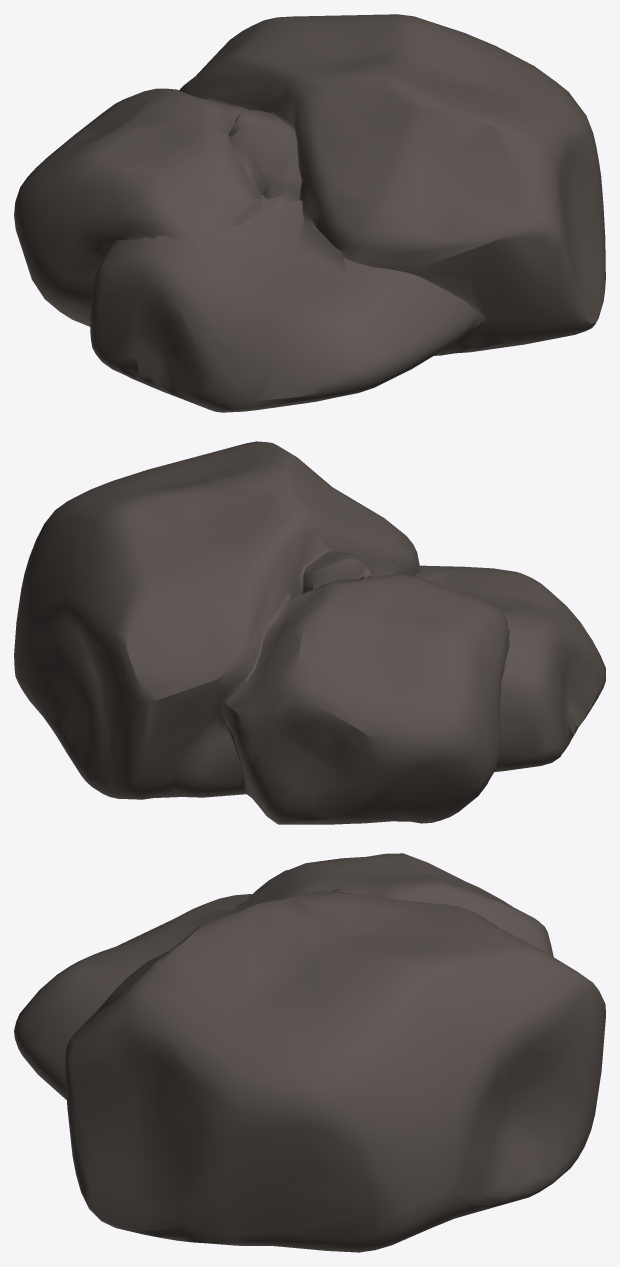
Rendered from Environment_Cliff1.gltf.
3 views of the same model, one above another, from view 1: azimuth 30°, elevation 25°; view 2: azimuth 150°, elevation 25°; view 3: azimuth 270°, elevation 25° (orthographic). The views are drawn at different scales.
Visible parts, largest first — view 1: Environment_Cliff1; view 2: Environment_Cliff1; view 3: Environment_Cliff1.
Part boxes in pixels (left/top/right/bottom): Environment_Cliff1: left=14, top=14, right=605, bottom=412; Environment_Cliff1: left=14, top=441, right=605, bottom=824; Environment_Cliff1: left=14, top=853, right=605, bottom=1252.
Size of the model in its own units: 5.63 by 2.96 by 5.41.
1 material, 1 textured.
